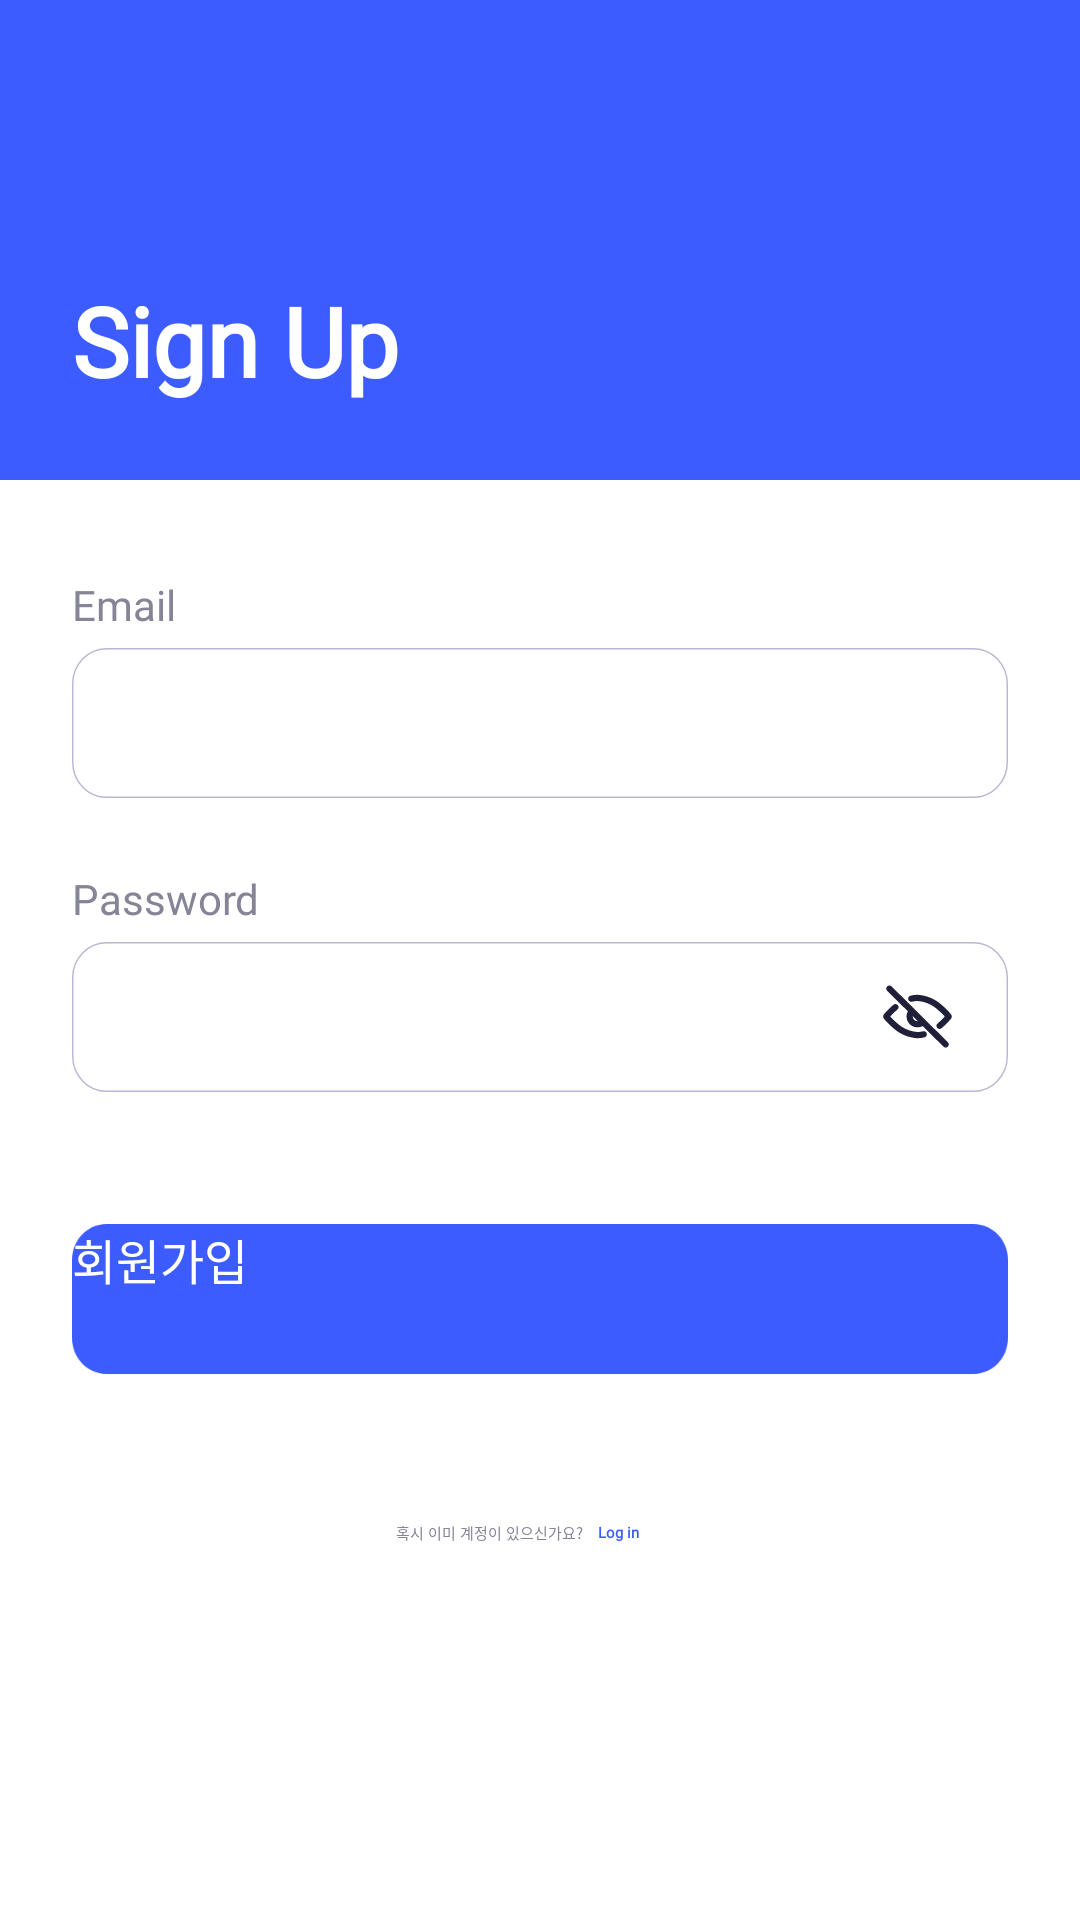

Icon click points for this 1080*1920 phone screenshot, format [x,y]:
hide: [917,1016]
